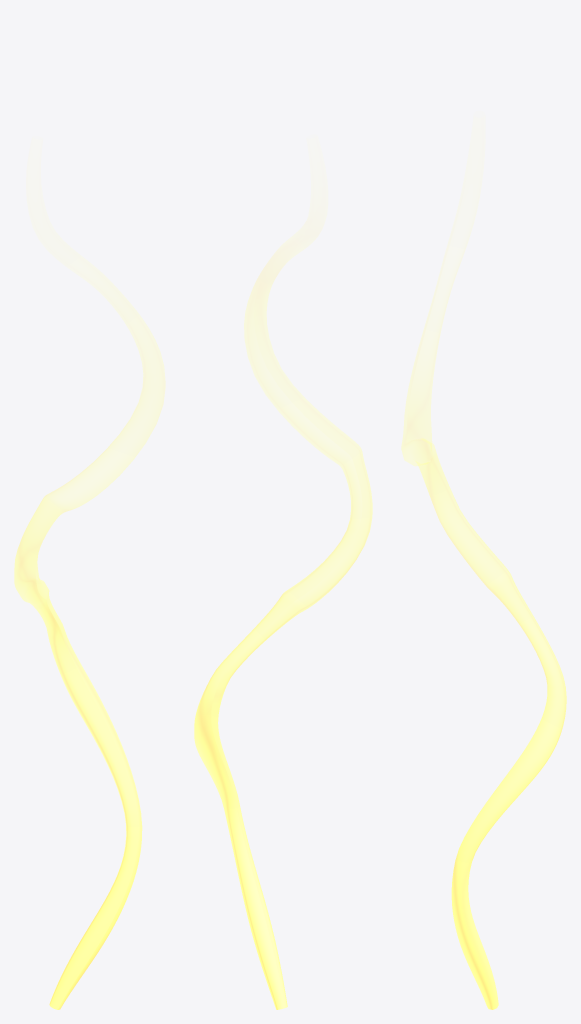
Rendered from strand_d_junction.glb.
3 renders of one model, left to right at view 1: azimuth 30°, elevation 25°; view 2: azimuth 150°, elevation 25°; view 3: azimuth 270°, elevation 25°, orthographic.
Size of the model in its own units: 1.29 by 9.03 by 1.36.
